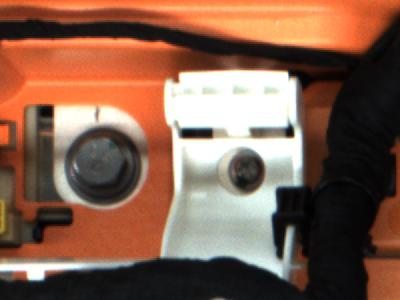nut_b: (63, 121, 145, 207)
